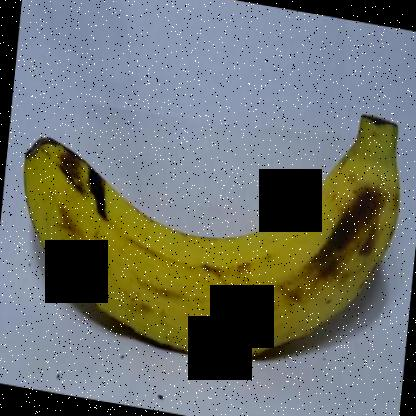ripe: (17, 85, 415, 373)
